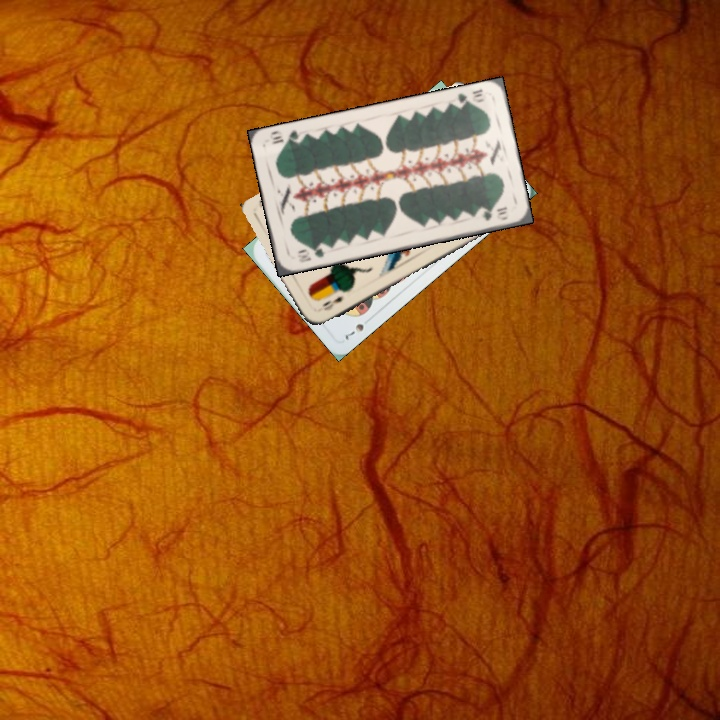EO: (318, 292, 345, 313)
G10: (450, 85, 486, 110), (294, 243, 328, 265)
S7: (341, 319, 366, 343)
